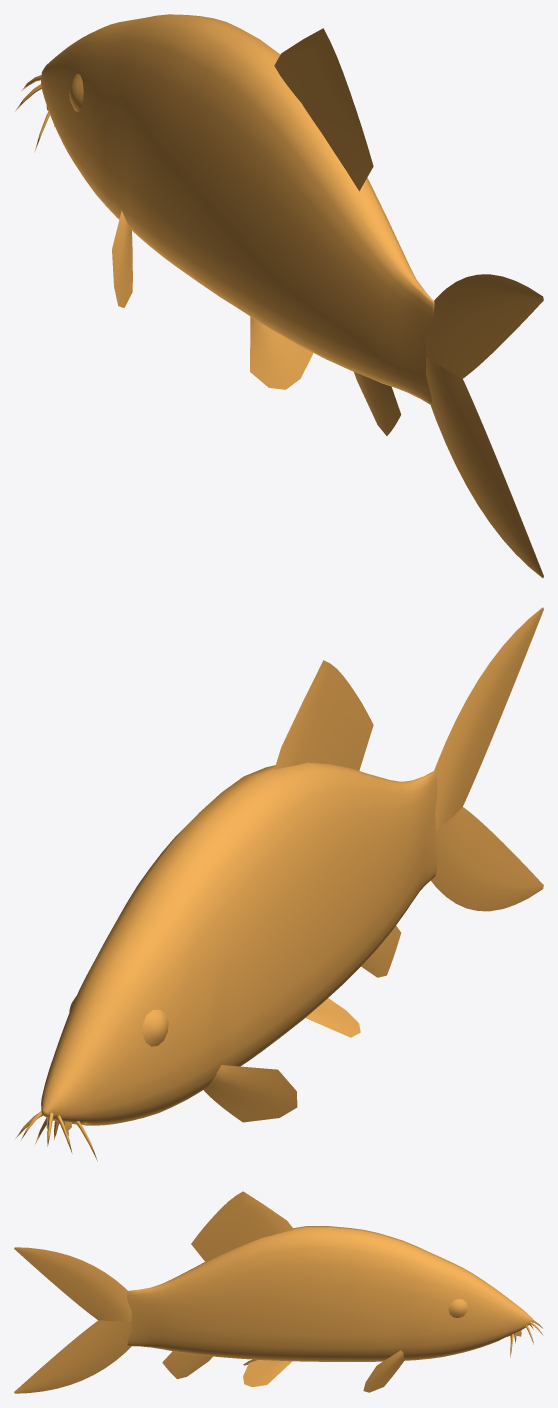
Rendered from clown_loach_lo.glb.
3 views of the same model, one above another, from view 1: azimuth 30°, elevation 25°; view 2: azimuth 150°, elevation 25°; view 3: azimuth 270°, elevation 25° (orthographic). The views are drawn at different scales.
Parts seen in each view (by area): view 1: clown_loach_lo; view 2: clown_loach_lo; view 3: clown_loach_lo.
Part boxes in pixels (x1,y1,x2,y2): clown_loach_lo: [15, 14, 543, 577]; clown_loach_lo: [15, 607, 543, 1161]; clown_loach_lo: [14, 1191, 543, 1393].
Bounding box in the file's own units: 0.0421 × 0.0856 × 0.2032.
